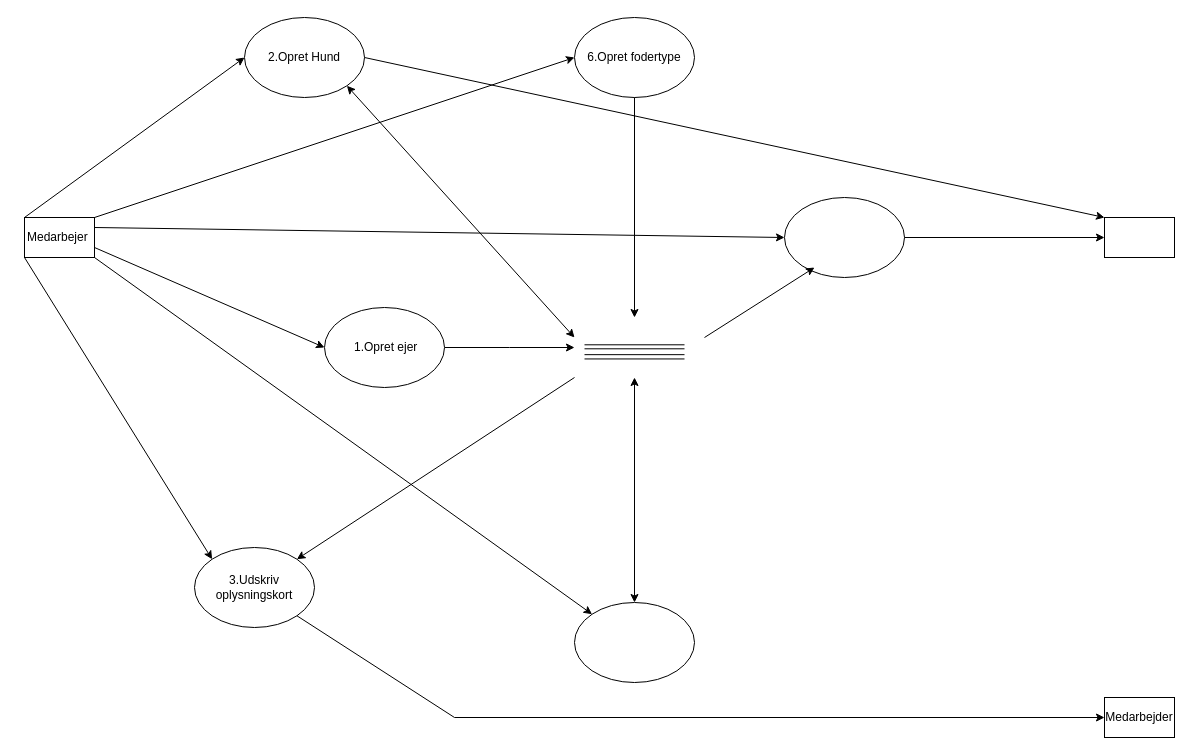
Image size: 1192x755. Some labels were removed from this diagram. The shapes that lost their labels are listed below. From the top down, each one's centre as x and y in pixels, then its label:
At point (844, 237): "5. Udskriv hændelseslog".
At point (1139, 237): "Ejer".
At point (634, 642): "4.Opret hændelse".
